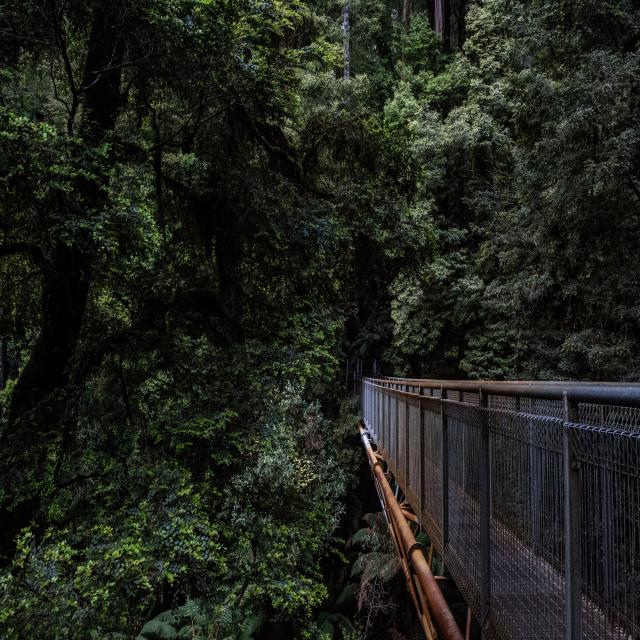Metal: (353, 376, 640, 640)
